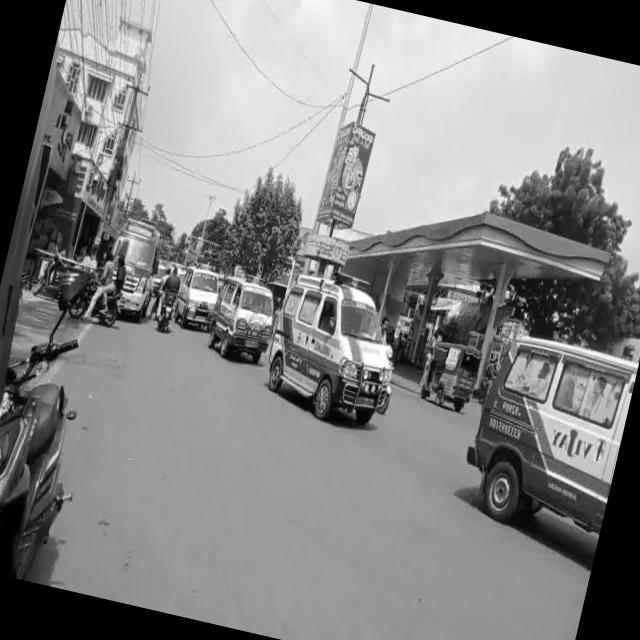ambulance: (449, 297, 640, 569), (254, 244, 421, 451), (92, 201, 164, 328), (207, 270, 280, 368), (170, 260, 218, 338)
